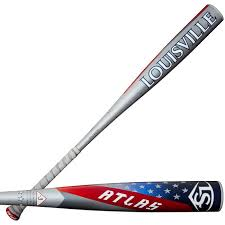baseball bat: (5, 4, 224, 220), (1, 179, 223, 212)
